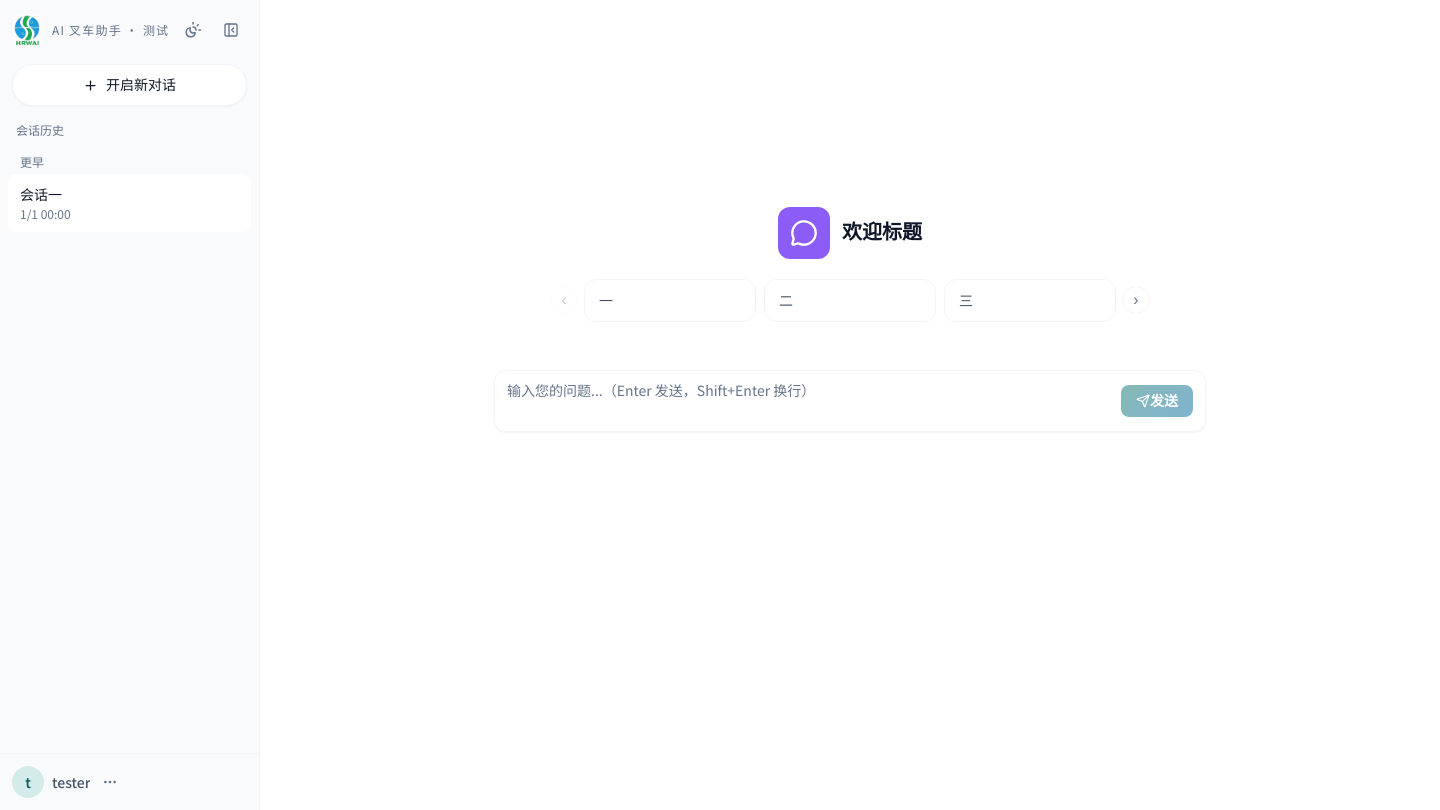
ChatPageShell 槽位 › 预设提示词横向翻页：默认 3 条一页，箭头切换页面
This screenshot has width=1440, height=810.
expect the element with class "suggestion-pager" is shown: met, box 550,279 -> 1150,322
expect the element with class "suggestion-page" shows "一": met, box 599,290 -> 613,310
Step 1. Click the button "›" → (1136, 300), box 1122,286 -> 1150,314
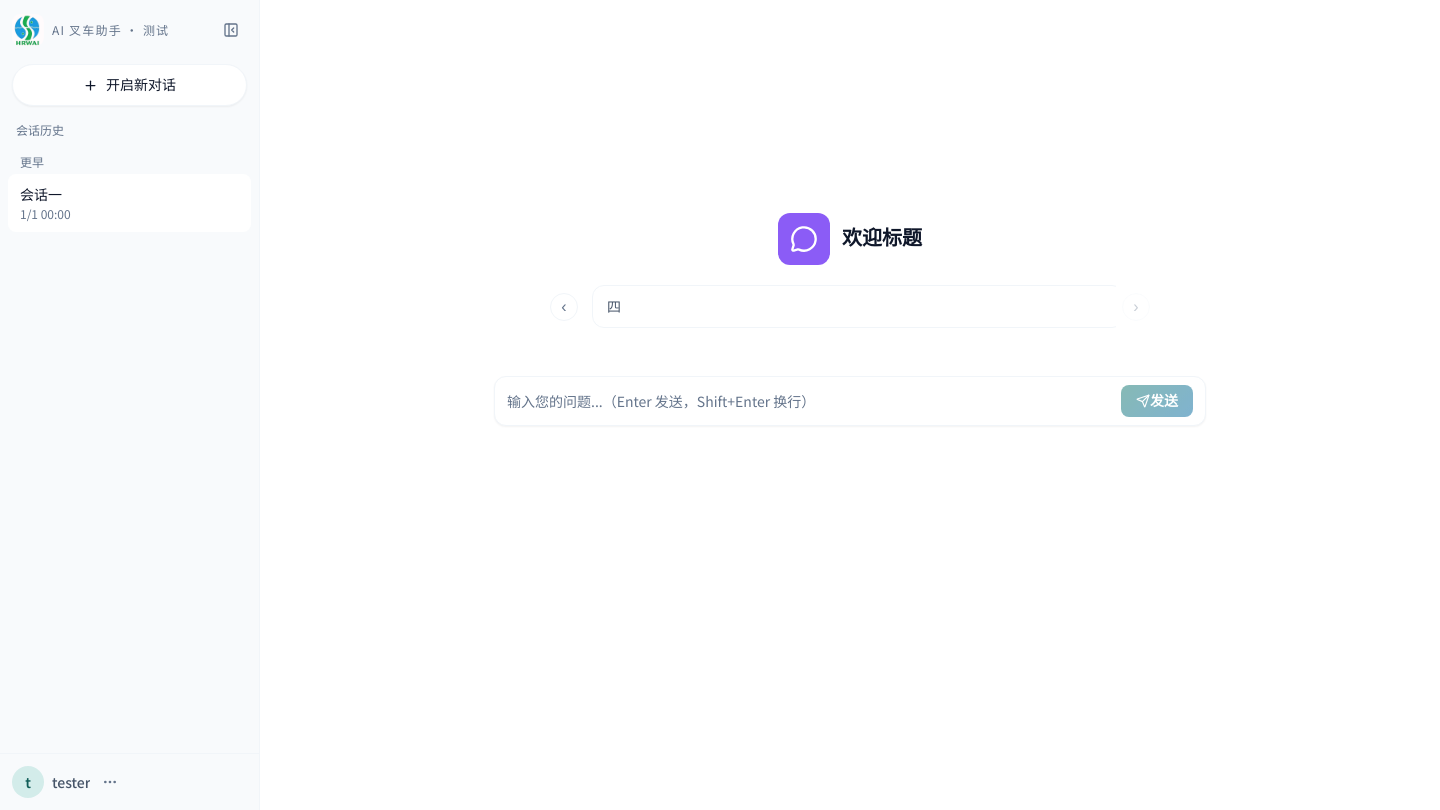
expect the element with class "suggestion-page" reads "四": met, box 607,296 -> 621,316
